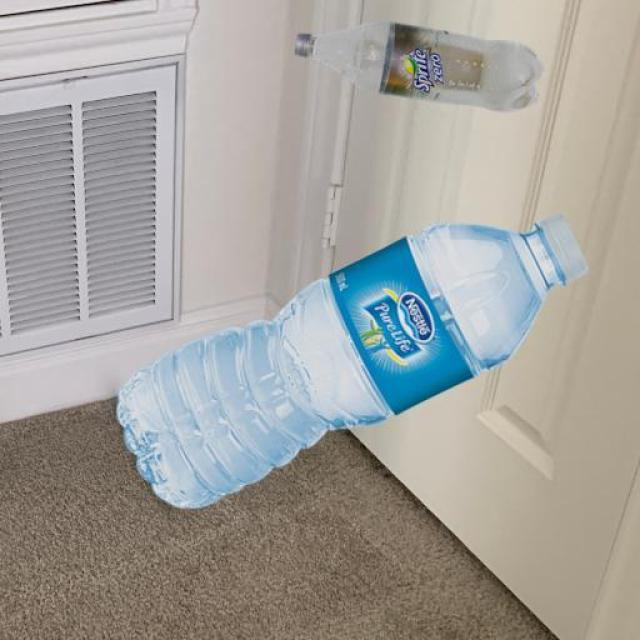bottle: (103, 198, 595, 520), (284, 12, 540, 134)
